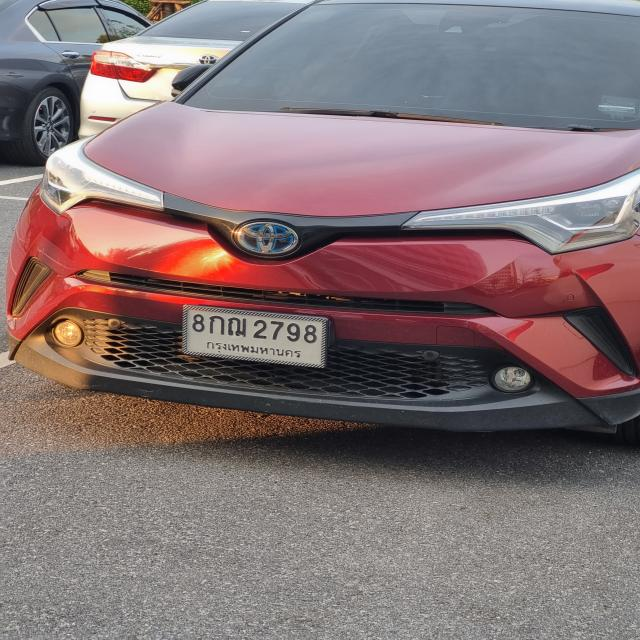license_plate: (184, 300, 332, 370)
